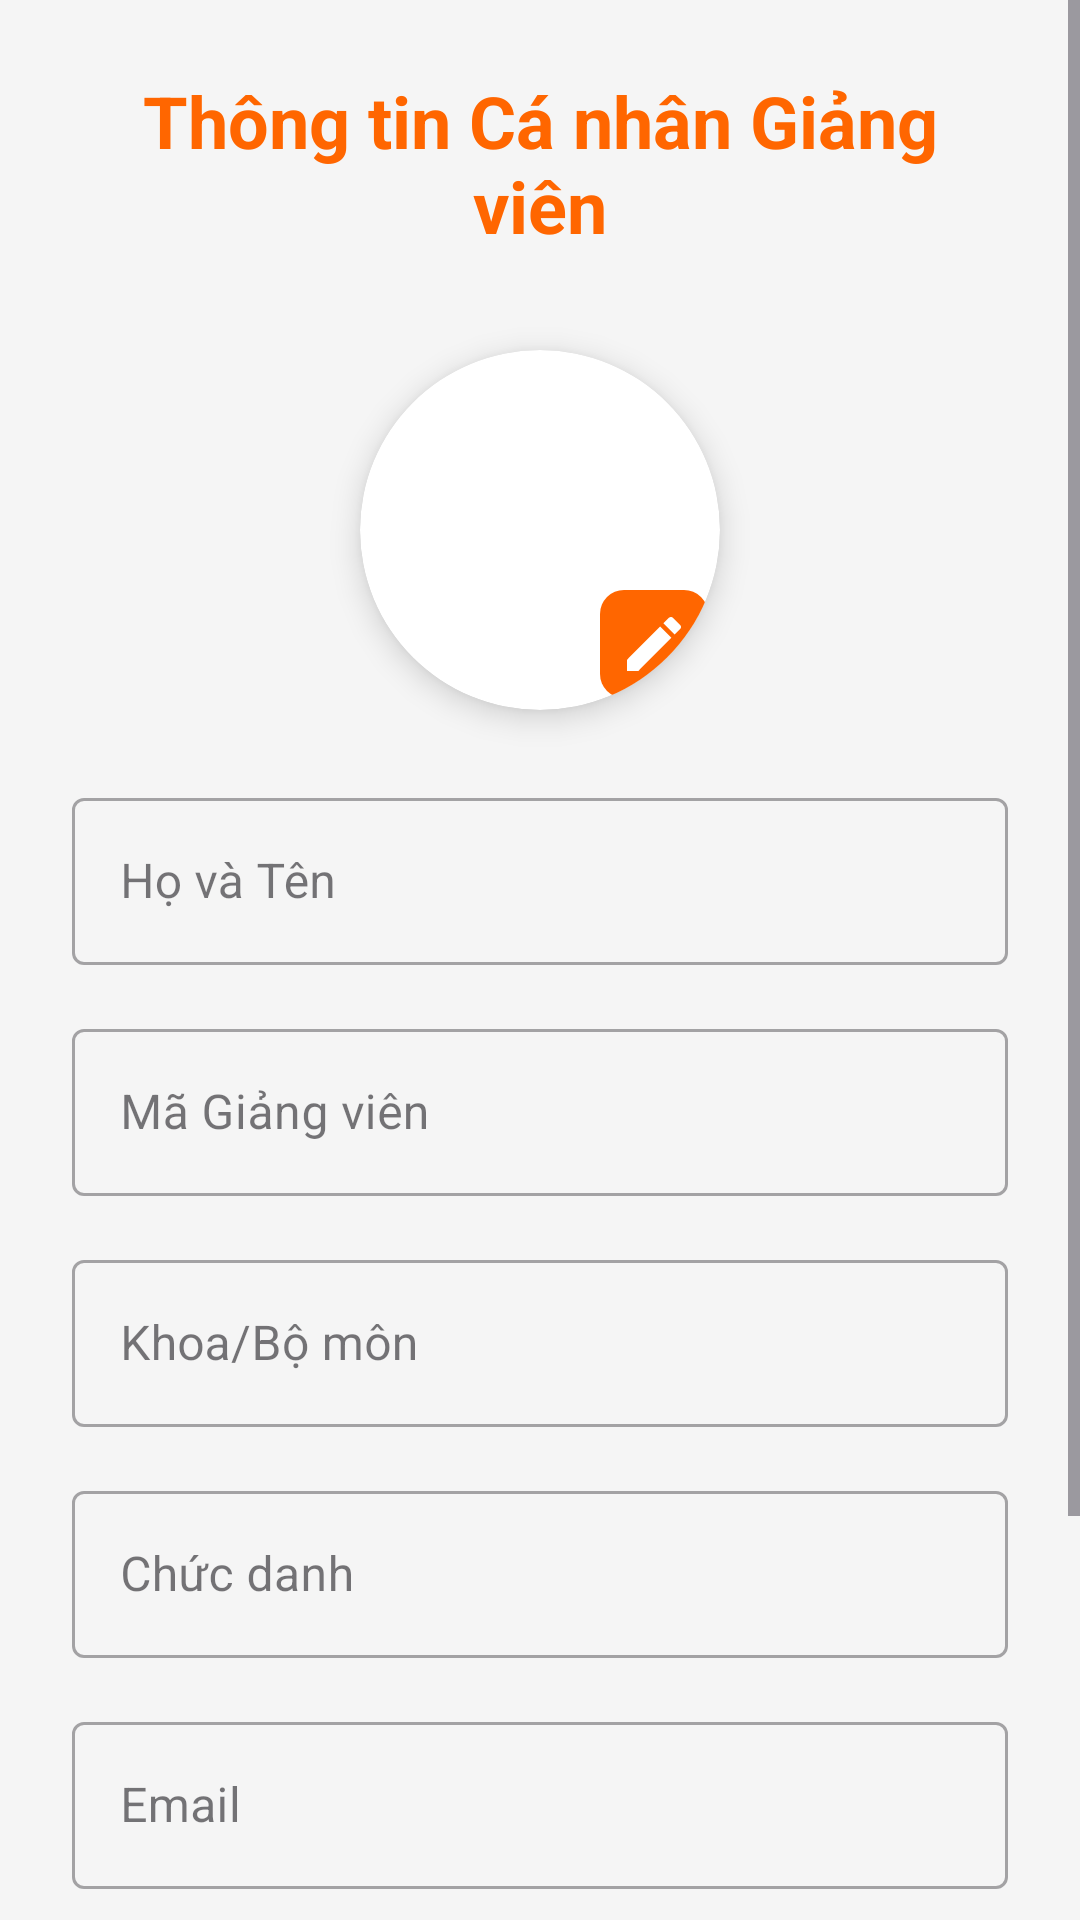

Icon click points for this 1080px x 1920px phone screenshot, format (x,y):
Thay đổi ảnh: (654,644)
